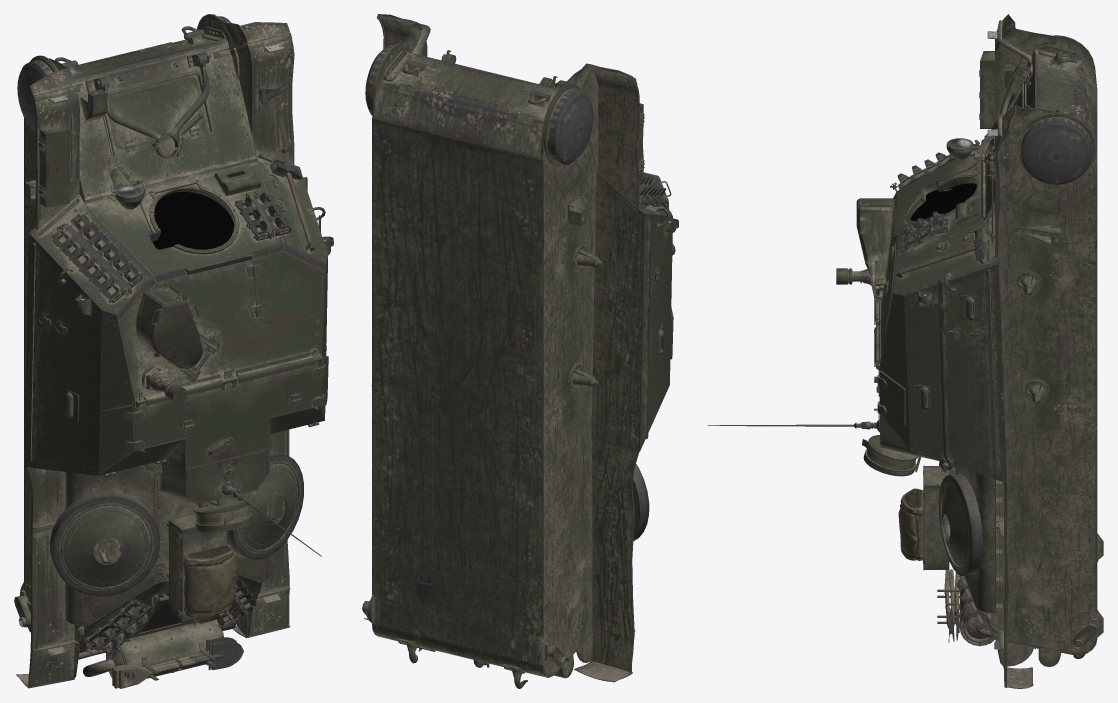
The model's file is Hull.glb.
3 views of the same model, side by side, from view 1: azimuth 30°, elevation 25°; view 2: azimuth 150°, elevation 25°; view 3: azimuth 270°, elevation 25° (orthographic). The views are drawn at different scales.
Visible parts, largest first — view 1: set_0_group_0; view 2: set_0_group_0; view 3: set_0_group_0.
Part boxes in pixels (bbox=[...]): set_0_group_0: bbox=[14, 14, 333, 688]; set_0_group_0: bbox=[362, 14, 678, 688]; set_0_group_0: bbox=[707, 14, 1103, 688].
Bounding box in the file's own units: 2.15 × 4.63 × 2.91.
1 material, 1 textured.
